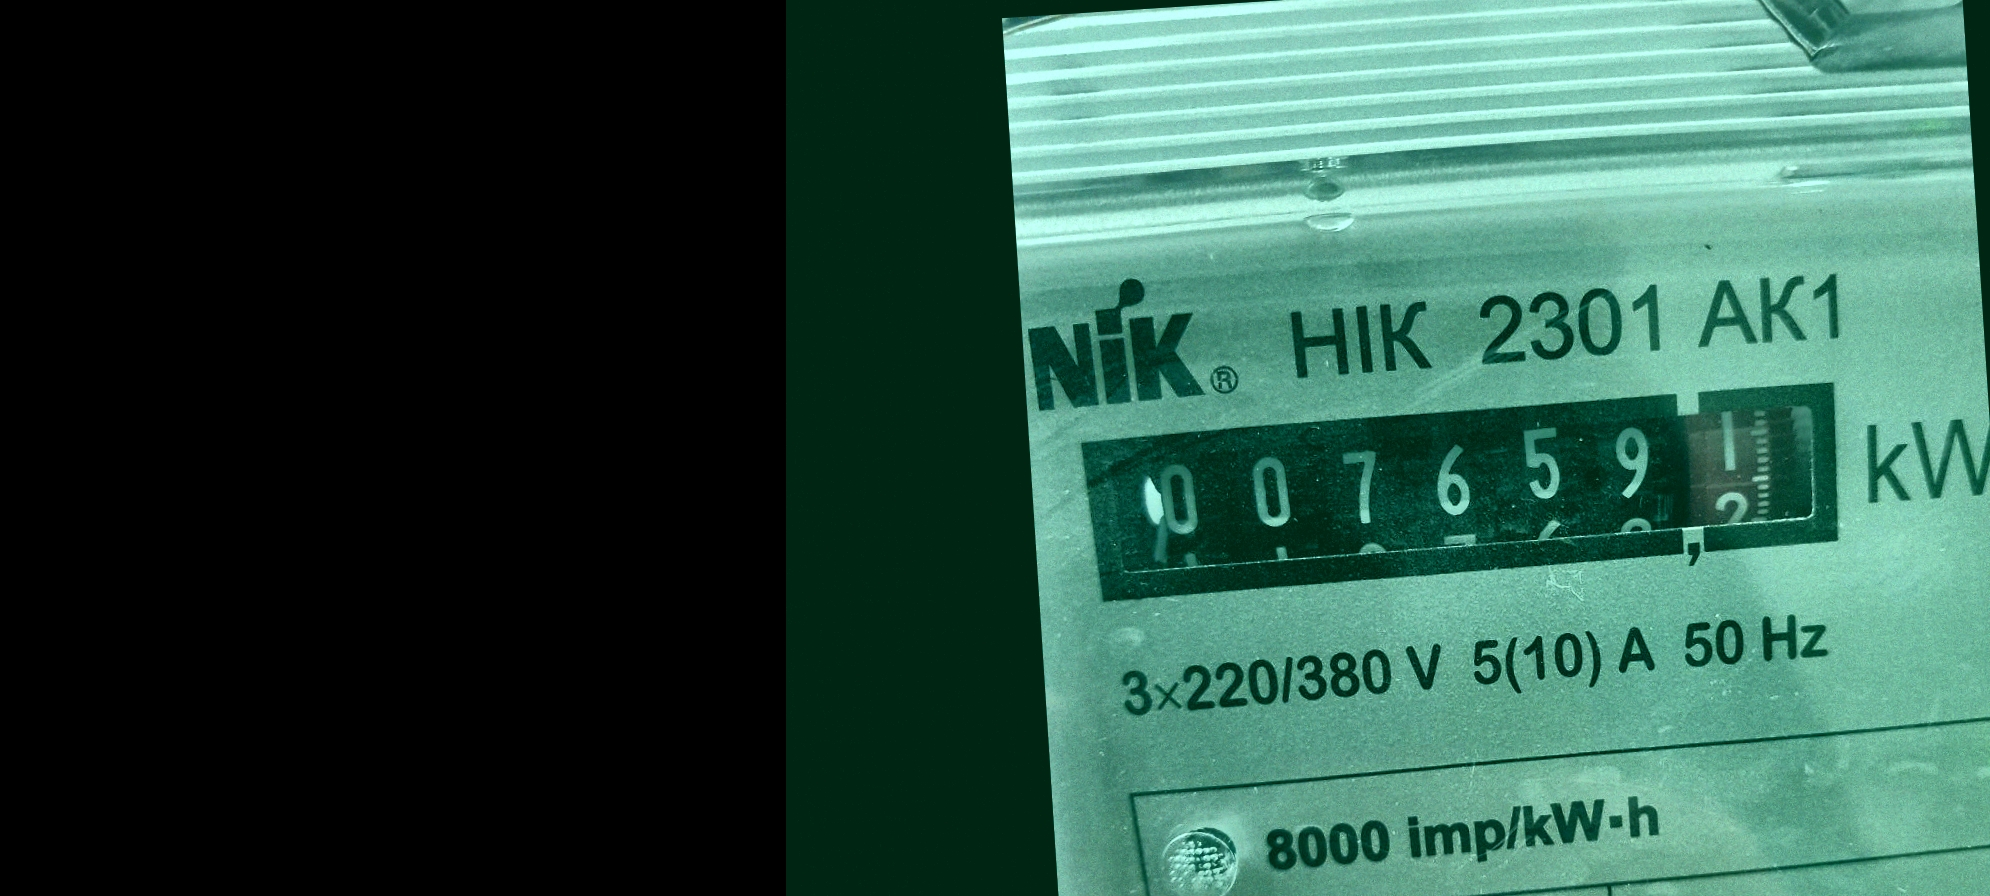0: (1239, 445, 1300, 536), (1151, 453, 1207, 546)
1: (1711, 404, 1750, 480)
5: (1517, 420, 1567, 505)
6: (1424, 435, 1480, 522)
7: (1336, 443, 1385, 530)
9: (1609, 418, 1656, 508)
screen: (1060, 360, 1866, 624)
